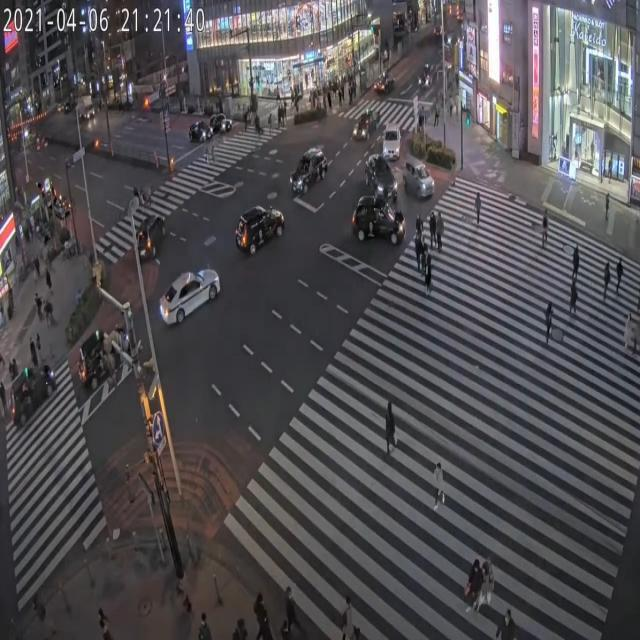humans: (426, 450, 448, 520), (381, 388, 398, 472), (281, 570, 302, 637), (466, 553, 483, 620), (339, 590, 354, 640), (542, 296, 556, 349), (540, 199, 552, 253), (567, 274, 580, 322), (482, 560, 494, 610), (500, 603, 516, 640), (622, 304, 633, 356), (423, 247, 433, 296), (472, 188, 483, 231), (602, 257, 612, 300), (434, 209, 444, 250), (616, 255, 625, 300), (570, 245, 581, 281), (416, 210, 422, 261), (415, 230, 422, 273), (428, 212, 436, 249), (422, 230, 428, 270)
